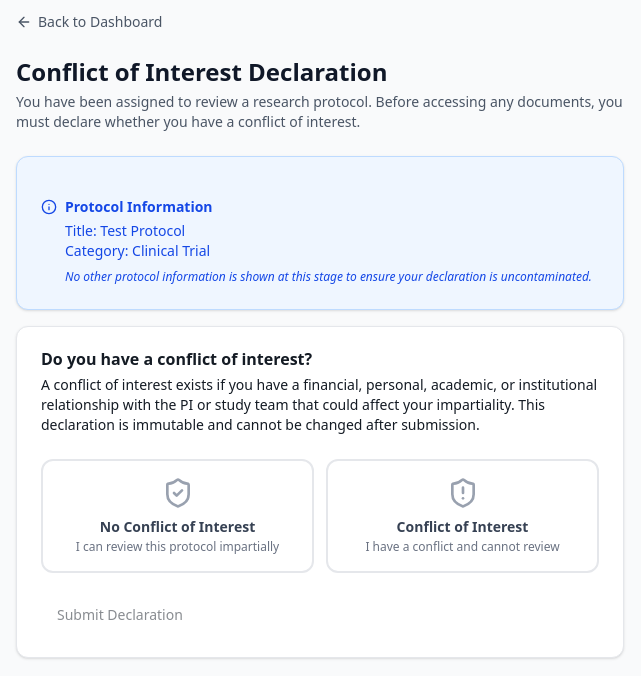
Test case: COIDeclarationClient › disables button while submitting
This screenshot has width=641, height=676.
Click the button "No Conflict of Interest" at (178, 516), box [41,459,314,573]
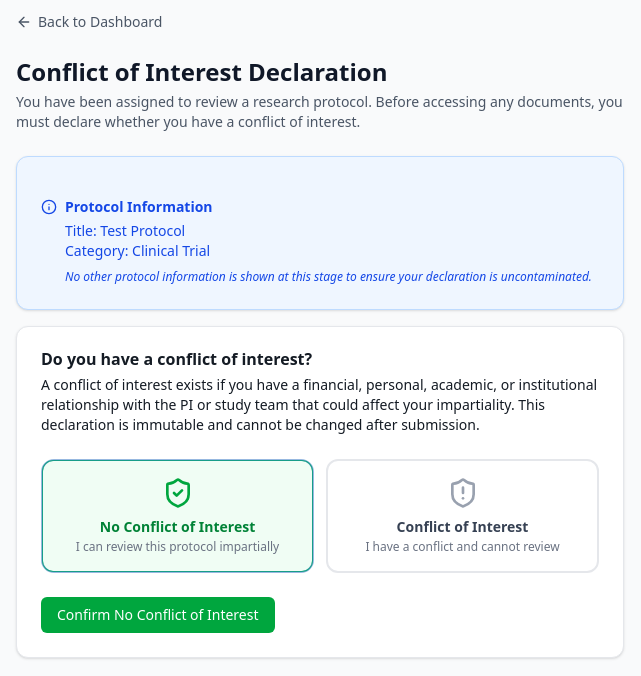
Click the button "Confirm No Conflict of Interest" at (158, 615), box [41,597,274,633]
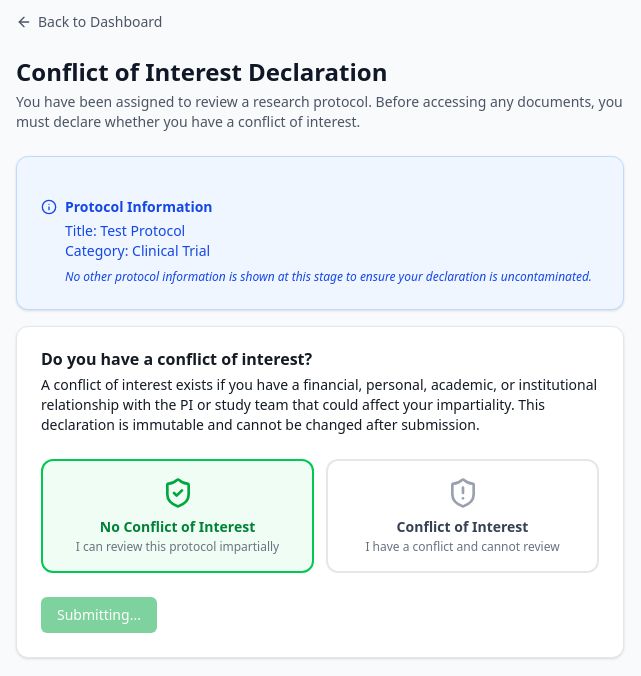
Check: the button named "Confirm No Conflict of Interest" is disabled, box [41,597,157,633]
Check: the button named "Confirm No Conflict of Interest" reads "Submitting...", box [41,597,157,633]
